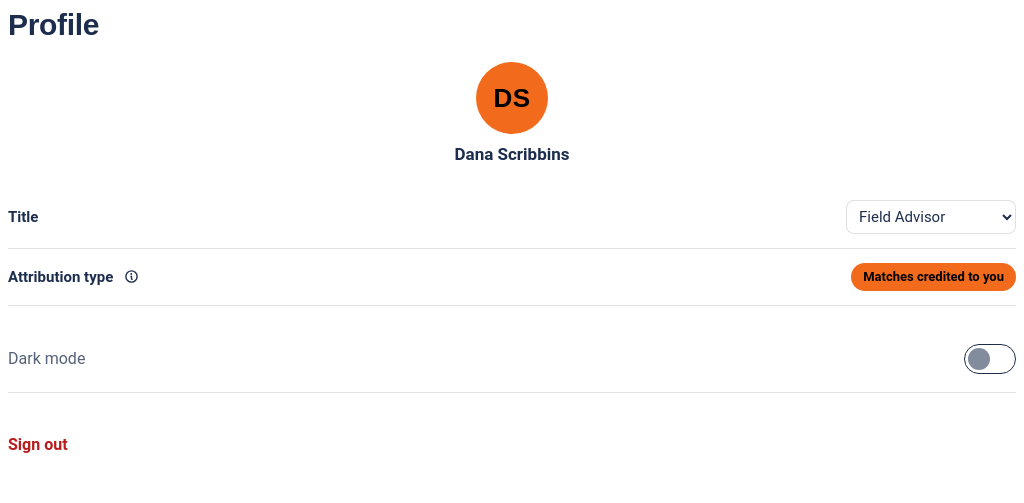
Test: Canvass-8 — the title control (A28), the only write on the rep surface › a failed save REVERTS the selection rather than leaving a value that was not stored
Select "Senior Roof Advisor" in the dropdown named "Title". click: (931, 217)
box: [846,200,1016,234]
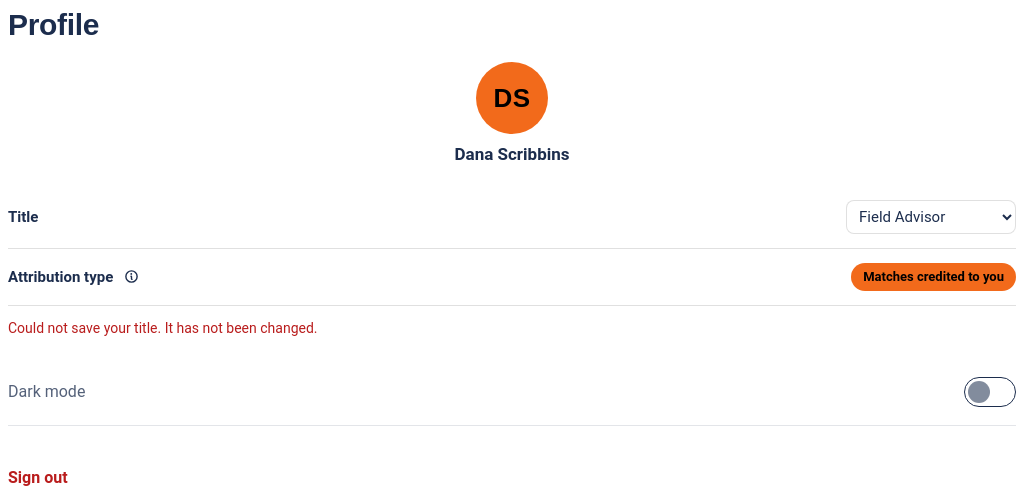
Expected: the message "Could not save your title. It has not been changed." is shown, [8,320,318,336]
